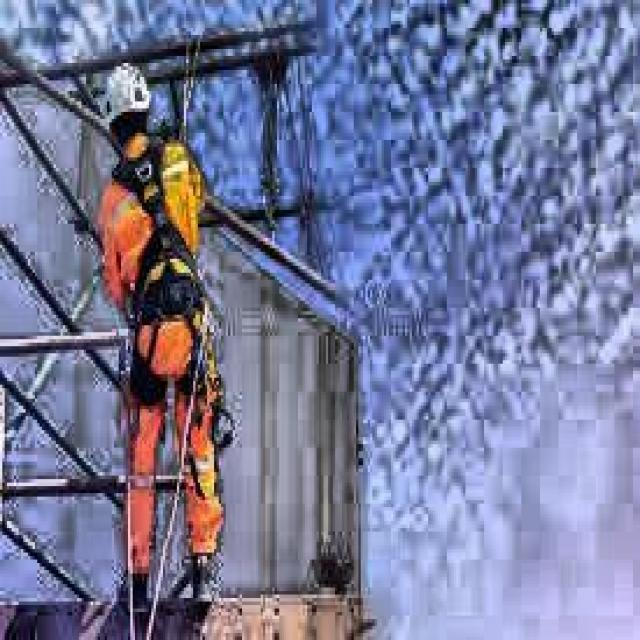belt: (107, 136, 214, 392)
